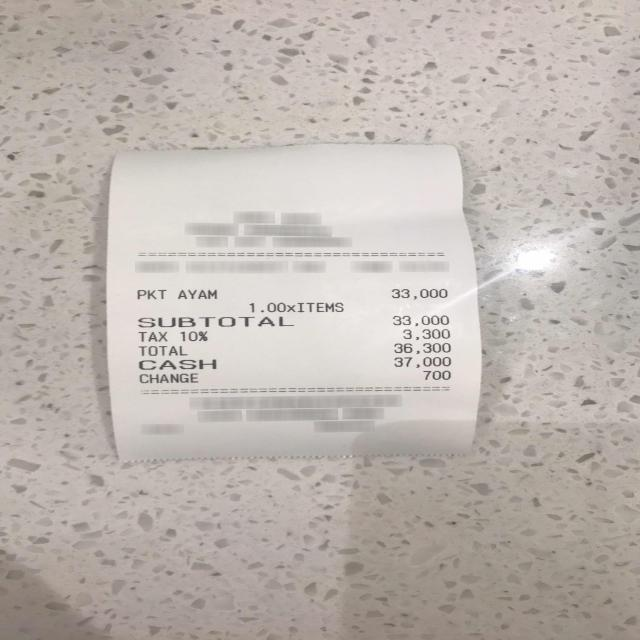kertas: (102, 141, 484, 462)
